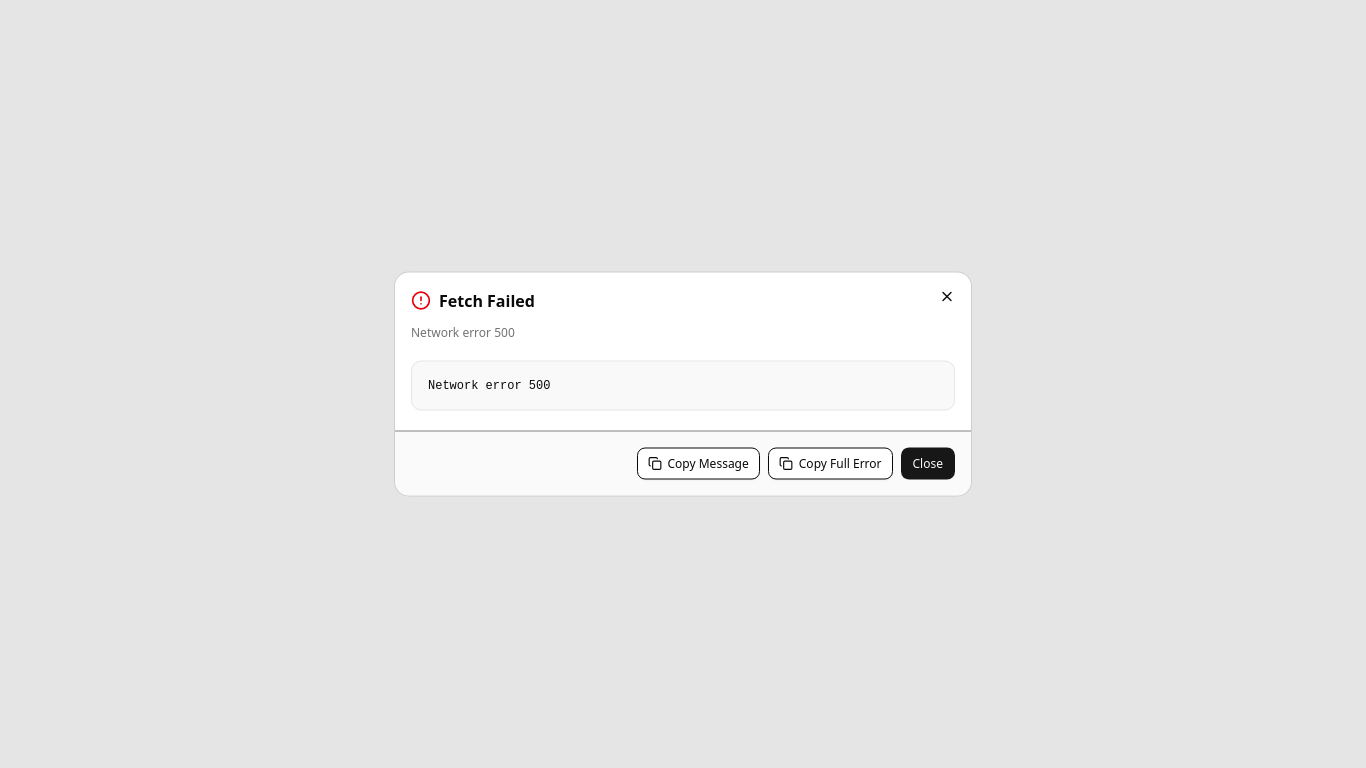
ErrorDetailsModal › copies error message to clipboard when clicking Copy Message
Step 1. Click the button "Copy Message" → (698, 464), box x1=636 y1=448 x2=760 y2=480
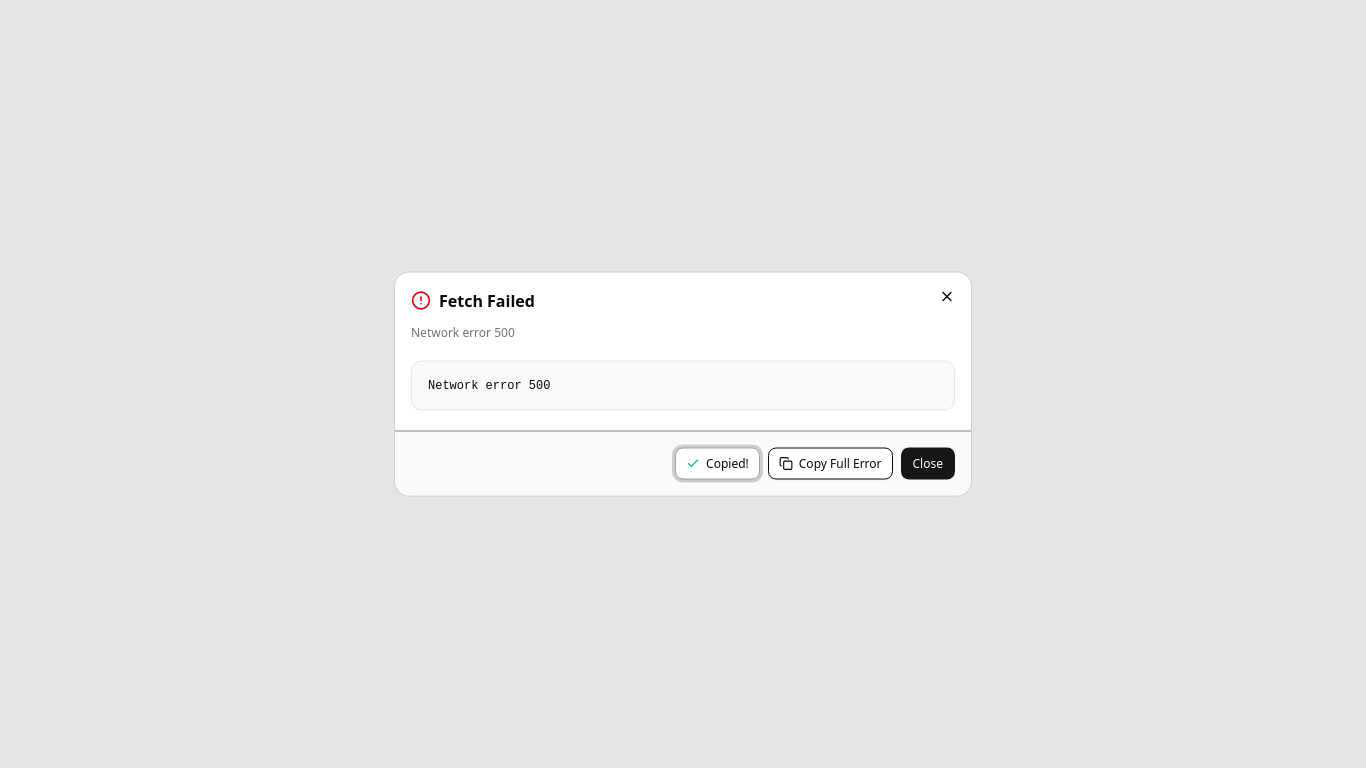
Check: the button "Copied!" is shown, box x1=675 y1=448 x2=760 y2=480
